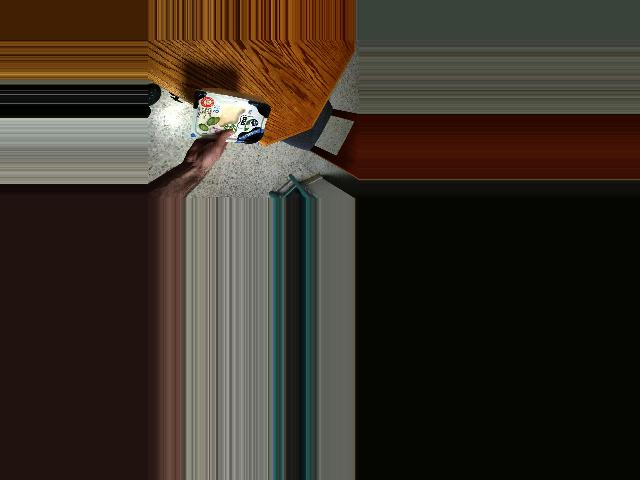cheese: (186, 98, 272, 147)
